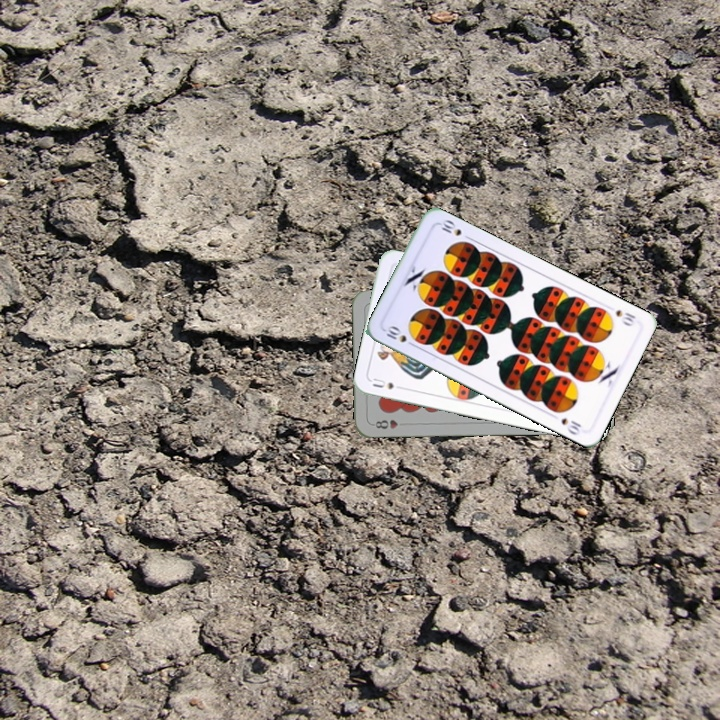H8: (369, 416, 409, 431)
S10: (381, 322, 418, 350), (612, 306, 639, 329)
SU: (369, 374, 408, 392)
